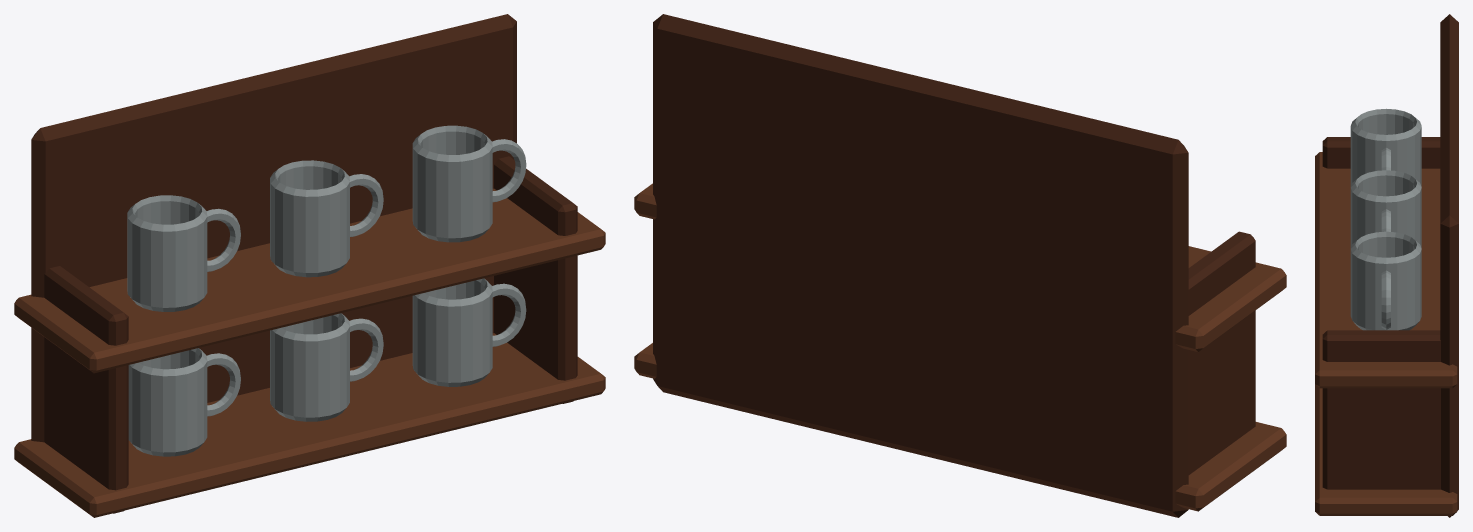
File: PewterTankardRack.glb
3 views of the same model, side by side, from view 1: azimuth 30°, elevation 25°; view 2: azimuth 150°, elevation 25°; view 3: azimuth 270°, elevation 25° (orthographic). The views are drawn at different scales.
Visible parts, largest first — view 1: OakRackBack, RackShelf.001, RackShelf, RackUpright, RackUpright.001, PewterMug.005, PewterMug.001, PewterMug.003, PewterMug.004, PewterMug.002, PewterMug, MugHandle.004 (+5 smaller); view 2: OakRackBack, RackUpright, RackShelf.001, RackShelf, RackUpright.001; view 3: RackUpright.001, RackShelf.001, OakRackBack, PewterMug.005, RackShelf, PewterMug.003, PewterMug.001, RackUpright, MugHandle.005, MugHandle.001, MugHandle.003.
Part boxes in pixels (x1=…): OakRackBack: x1=31, y1=14, x2=516, y2=442; RackShelf.001: x1=14, y1=188, x2=605, y2=373; RackShelf: x1=14, y1=333, x2=605, y2=517; RackUpright: x1=44, y1=266, x2=128, y2=513; RackUpright.001: x1=494, y1=156, x2=577, y2=403; PewterMug.005: x1=412, y1=125, x2=492, y2=242; PewterMug.001: x1=127, y1=195, x2=207, y2=311; PewterMug.003: x1=270, y1=160, x2=349, y2=277; PewterMug.004: x1=412, y1=278, x2=492, y2=386; PewterMug.002: x1=270, y1=313, x2=349, y2=421; PewterMug: x1=128, y1=348, x2=207, y2=456; MugHandle.004: x1=492, y1=283, x2=526, y2=346; OakRackBack: x1=653, y1=14, x2=1188, y2=517; RackUpright: x1=1157, y1=231, x2=1255, y2=474; RackShelf.001: x1=634, y1=183, x2=1286, y2=351; RackShelf: x1=634, y1=343, x2=1286, y2=511; RackUpright.001: x1=661, y1=176, x2=673, y2=386; RackUpright.001: x1=1322, y1=330, x2=1440, y2=489; RackShelf.001: x1=1315, y1=152, x2=1457, y2=388; OakRackBack: x1=1440, y1=14, x2=1458, y2=517; PewterMug.005: x1=1350, y1=231, x2=1421, y2=330; RackShelf: x1=1315, y1=384, x2=1457, y2=515; PewterMug.003: x1=1350, y1=170, x2=1421, y2=247; PewterMug.001: x1=1350, y1=108, x2=1421, y2=186; RackUpright: x1=1322, y1=137, x2=1440, y2=168; MugHandle.005: x1=1381, y1=270, x2=1390, y2=329; MugHandle.001: x1=1381, y1=147, x2=1390, y2=170; MugHandle.003: x1=1381, y1=209, x2=1390, y2=231.
Bounding box in the file's own units: 3.4 × 2.16 × 0.93.
